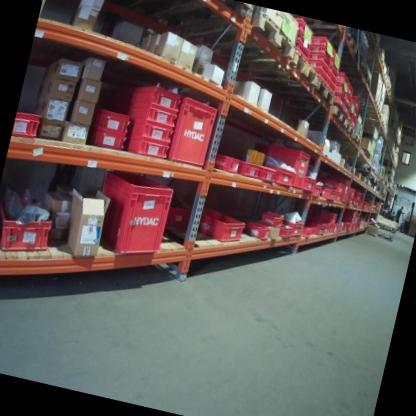pallet: (172, 0, 302, 84), (100, 0, 253, 50), (234, 37, 325, 97), (295, 18, 367, 63), (309, 94, 353, 132), (304, 75, 340, 112), (333, 115, 361, 142), (339, 145, 374, 165), (351, 70, 375, 95), (352, 94, 380, 115), (355, 104, 383, 124), (374, 233, 395, 245), (373, 224, 397, 232), (350, 134, 362, 148)
pallet_truck: (394, 198, 416, 238), (381, 189, 404, 221)
small_load_carrier: (89, 166, 177, 265), (0, 187, 64, 265), (168, 96, 219, 169), (247, 140, 313, 195), (112, 74, 185, 115), (189, 205, 245, 247), (123, 134, 171, 163), (163, 194, 199, 232), (127, 103, 176, 129), (93, 105, 134, 134), (129, 121, 174, 146), (12, 109, 45, 142), (88, 126, 126, 152), (209, 149, 242, 176), (239, 158, 266, 184), (292, 17, 319, 43), (307, 34, 337, 56), (242, 218, 271, 239), (317, 175, 346, 194), (259, 210, 285, 231), (258, 164, 281, 187), (309, 43, 335, 62), (307, 51, 333, 68), (291, 42, 311, 64), (307, 67, 329, 86), (295, 30, 314, 51), (276, 167, 295, 187), (300, 173, 319, 193), (283, 217, 303, 235), (333, 68, 351, 88), (337, 181, 351, 205), (320, 184, 337, 203), (330, 81, 349, 98), (309, 61, 331, 75), (309, 182, 324, 202), (318, 209, 338, 224), (303, 223, 318, 239), (278, 224, 295, 238), (306, 222, 323, 236), (350, 93, 363, 109), (332, 94, 345, 109), (337, 220, 349, 236), (332, 50, 343, 67), (299, 225, 312, 238), (328, 62, 341, 74), (320, 222, 332, 234), (345, 82, 356, 95), (325, 82, 334, 95), (341, 106, 350, 118), (353, 109, 362, 120), (345, 197, 354, 208), (329, 223, 336, 236), (345, 95, 352, 108), (328, 70, 338, 79), (328, 77, 337, 87), (335, 193, 343, 203), (346, 113, 353, 123), (350, 116, 357, 126), (349, 188, 356, 197), (356, 190, 363, 198)
